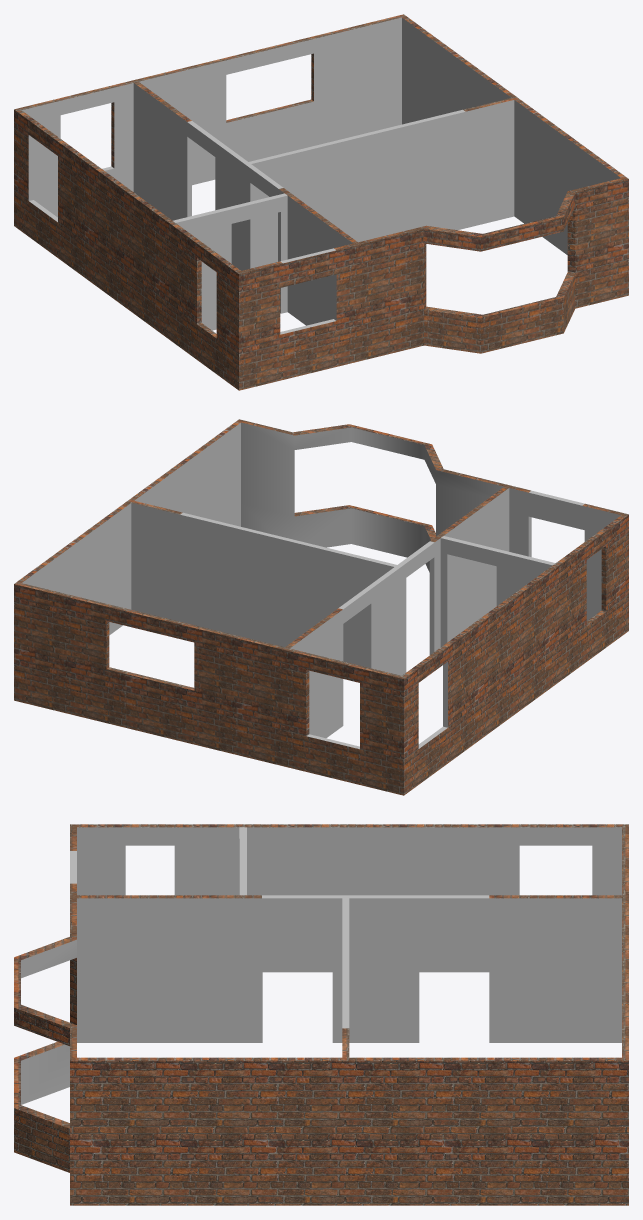
Rendered from UpstairsWalls.FBX.
3 views of the same model, one above another, from view 1: azimuth 30°, elevation 25°; view 2: azimuth 150°, elevation 25°; view 3: azimuth 270°, elevation 25° (orthographic). The views are drawn at different scales.
Visible parts, largest first — view 1: 1stFloorWalls001; view 2: 1stFloorWalls001; view 3: 1stFloorWalls001.
Boxes of the visible parts, <box> form: 1stFloorWalls001: <box>14,14,628,390</box>; 1stFloorWalls001: <box>14,419,628,795</box>; 1stFloorWalls001: <box>14,824,628,1205</box>.
Bounding box in the file's own units: 839 × 240 × 923.
